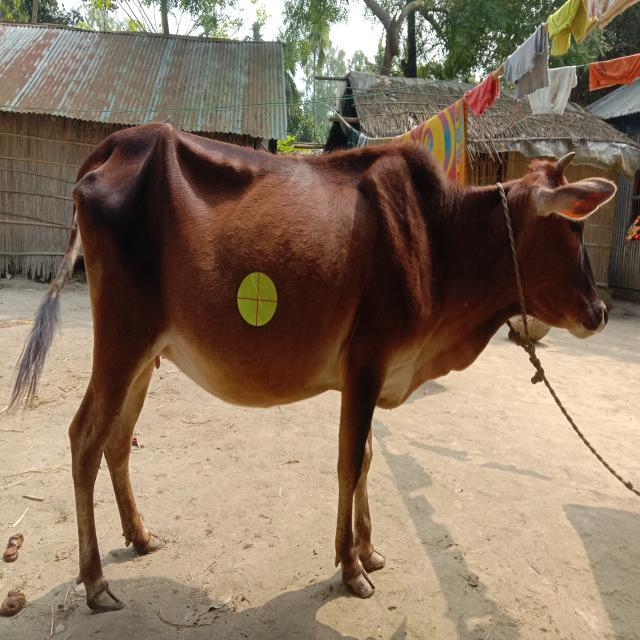badan_sapi: (76, 154, 437, 405)
sapi: (17, 95, 619, 614)
